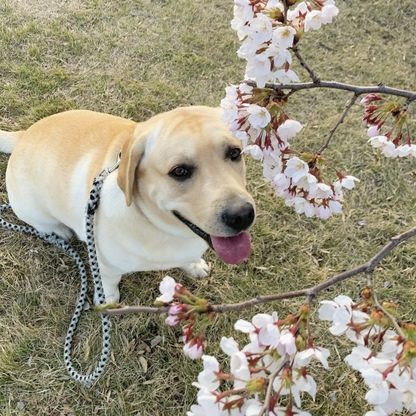labrado: (1, 100, 259, 317)
